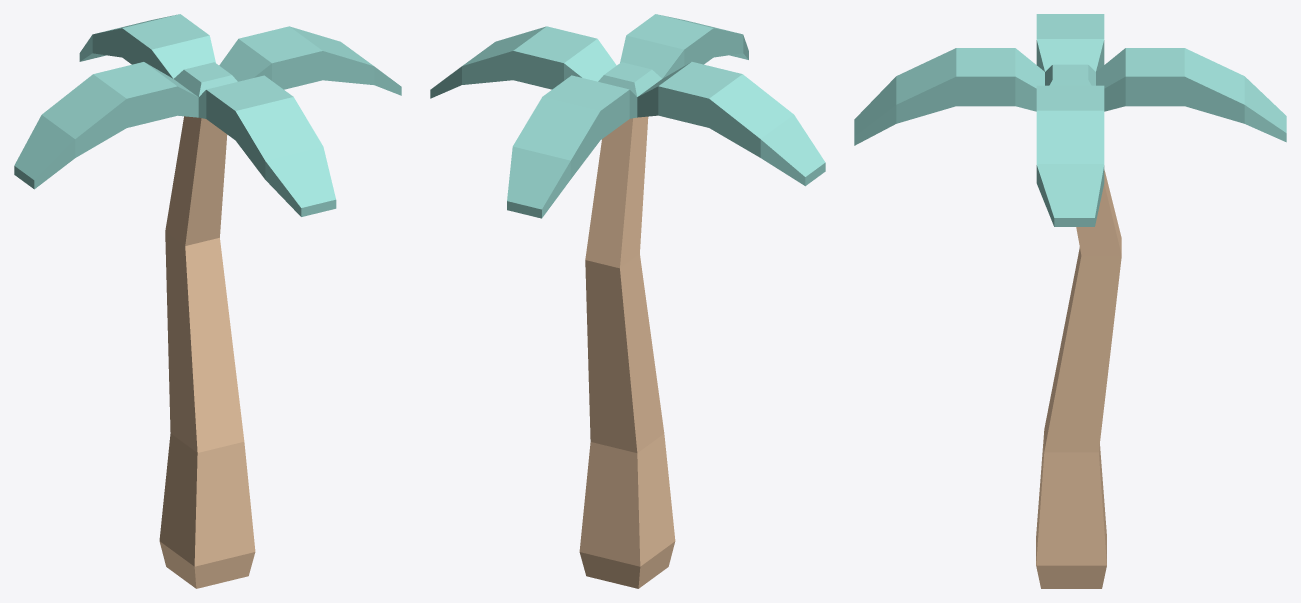
Rendered from palm_large.glb.
3 renders of one model, left to right at view 1: azimuth 30°, elevation 25°; view 2: azimuth 150°, elevation 25°; view 3: azimuth 270°, elevation 25°, orthographic.
Parts seen in each view (by area): view 1: Group 142, Group 140; view 2: Group 142, Group 140; view 3: Group 142, Group 140.
Boxes of the visible parts, x1,y1,x2,y2 form: Group 142: (14,14,401,216); Group 140: (159,116,255,588); Group 142: (430,14,825,218); Group 140: (579,116,675,588); Group 142: (854,14,1286,226); Group 140: (1036,170,1121,588).
Bounding box in the file's own units: 0.7719 × 1.01 × 0.7719.
